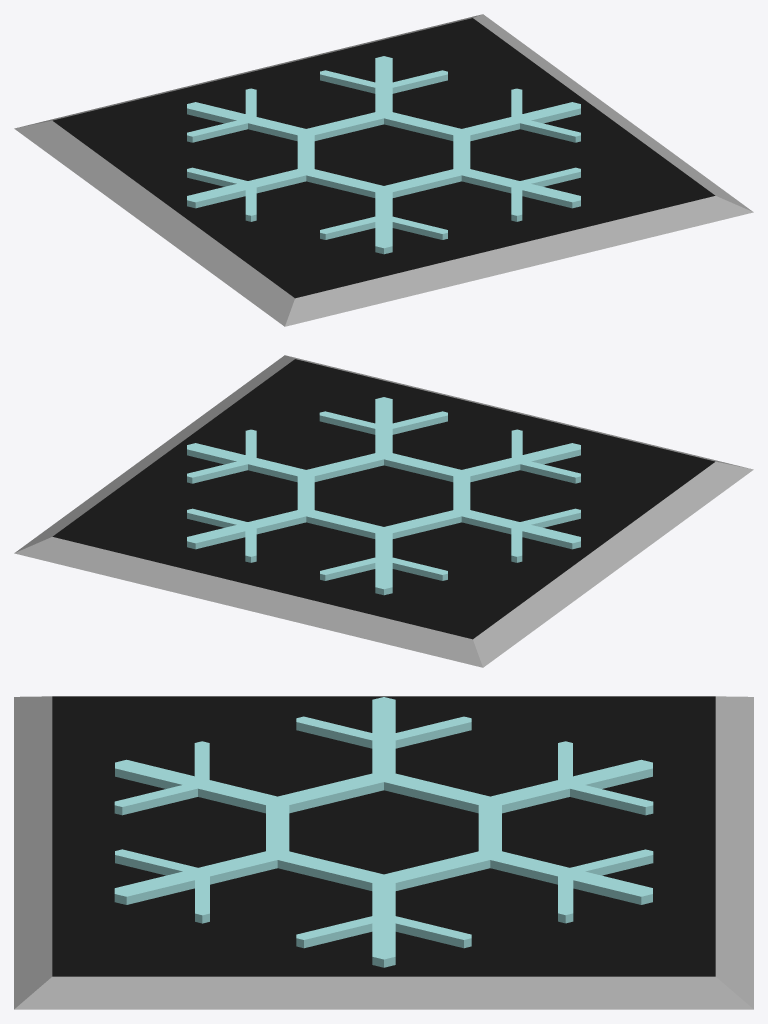
Rendered from freeze trap.fbx.
3 views of the same model, one above another, from view 1: azimuth 30°, elevation 25°; view 2: azimuth 150°, elevation 25°; view 3: azimuth 270°, elevation 25° (orthographic). The views are drawn at different scales.
Visible parts, largest first — view 1: pPlane2, pPrism1; view 2: pPlane2, pPrism1; view 3: pPlane2, pPrism1.
Boxes of the visible parts, x1,y1,x2,y2 form: pPlane2: (14, 14, 753, 326); pPrism1: (187, 56, 580, 254); pPlane2: (14, 355, 753, 667); pPrism1: (187, 397, 580, 595); pPlane2: (14, 696, 753, 1009); pPrism1: (114, 697, 653, 967).
Size of the model in its own units: 1.86 by 0.0779 by 1.86.
